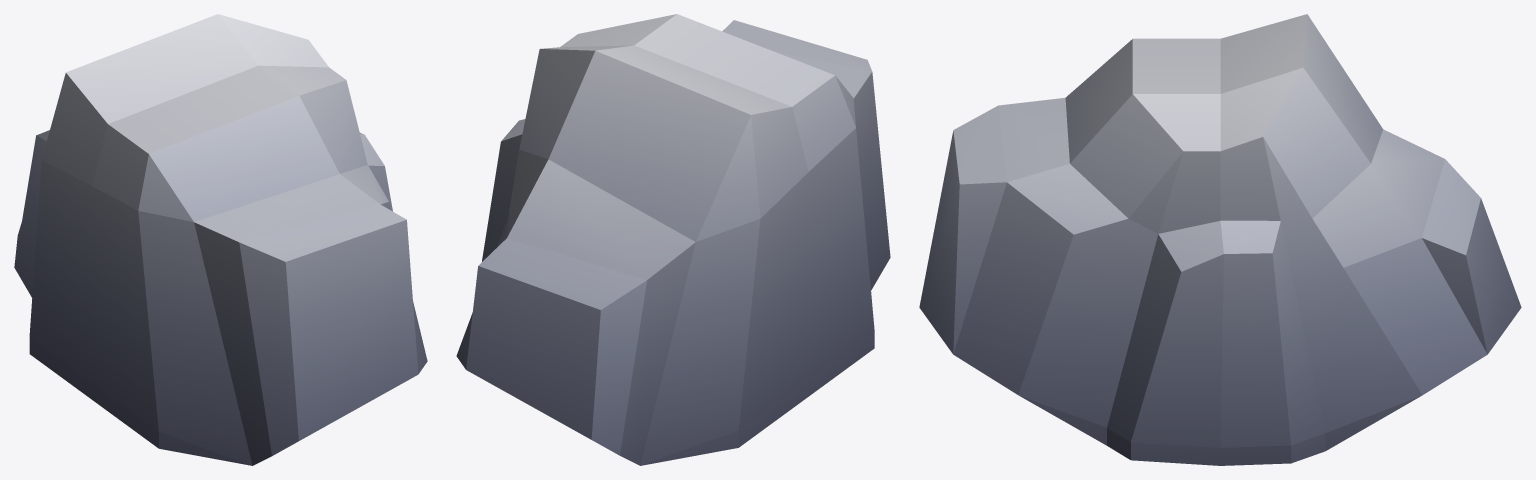
The model's file is Rock_4.fbx.
3 views of the same model, side by side, from view 1: azimuth 30°, elevation 25°; view 2: azimuth 150°, elevation 25°; view 3: azimuth 270°, elevation 25° (orthographic). The views are drawn at different scales.
Visible parts, largest first — view 1: Rock_4; view 2: Rock_4; view 3: Rock_4.
Boxes of the visible parts, x1=… form: Rock_4: x1=14, y1=14, x2=427, y2=465; Rock_4: x1=456, y1=14, x2=890, y2=465; Rock_4: x1=919, y1=14, x2=1521, y2=465.
Bounding box in the file's own units: 0.7436 × 0.7836 × 1.25.
